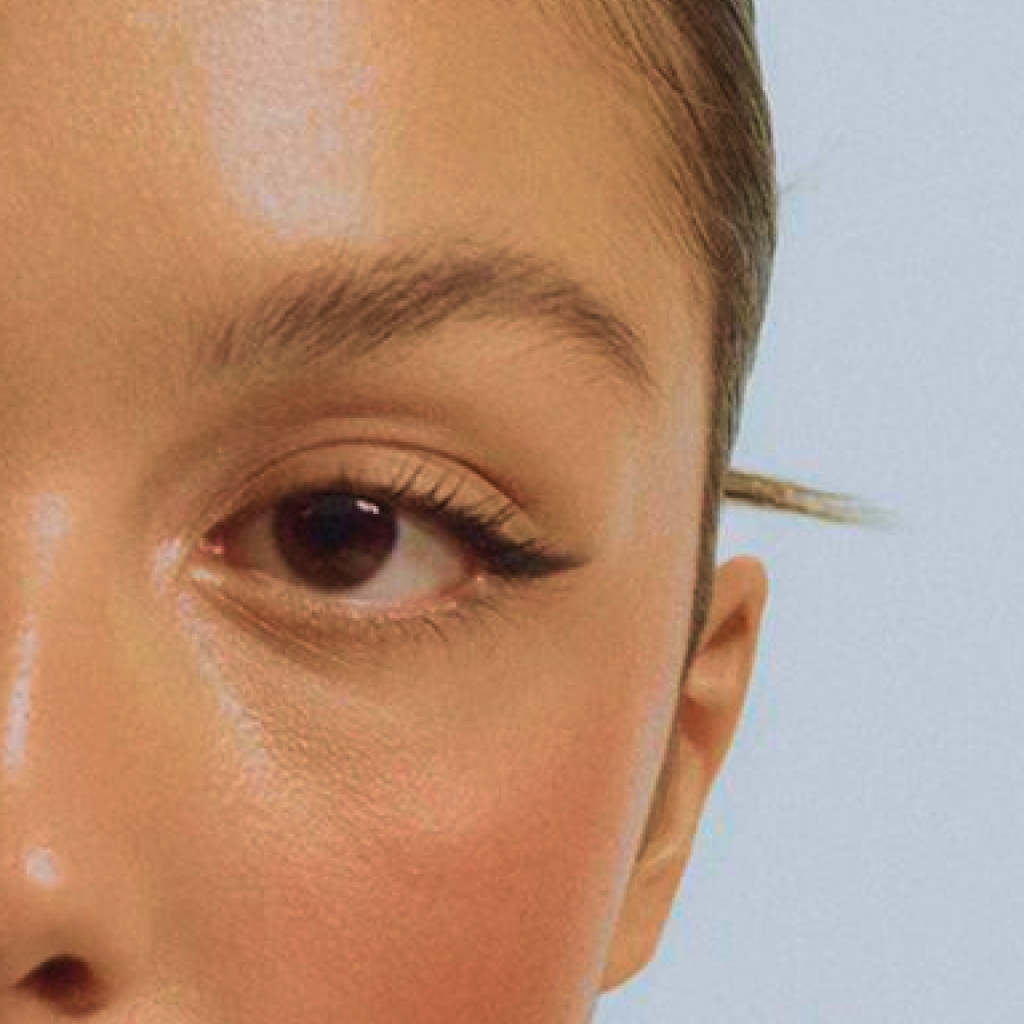iris: (273, 497, 395, 593)
pupil: (310, 494, 353, 540)
sclera: (350, 510, 473, 600), (235, 508, 295, 579)
